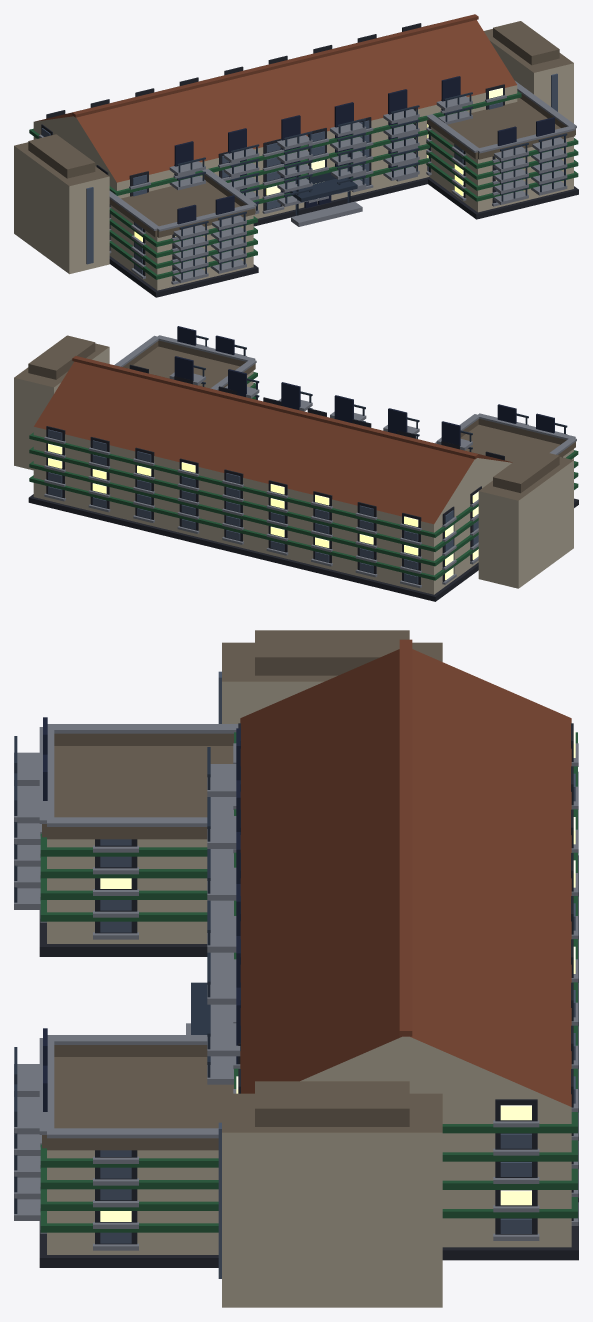
Rendered from hostel-high.glb.
The picture shows the model from 3 angles, top to bottom: view 1: azimuth 30°, elevation 25°; view 2: azimuth 150°, elevation 25°; view 3: azimuth 270°, elevation 25°; orthographic projection. The views are drawn at different scales.
Size of the model in its own units: 126 by 27.29 by 61.4.
